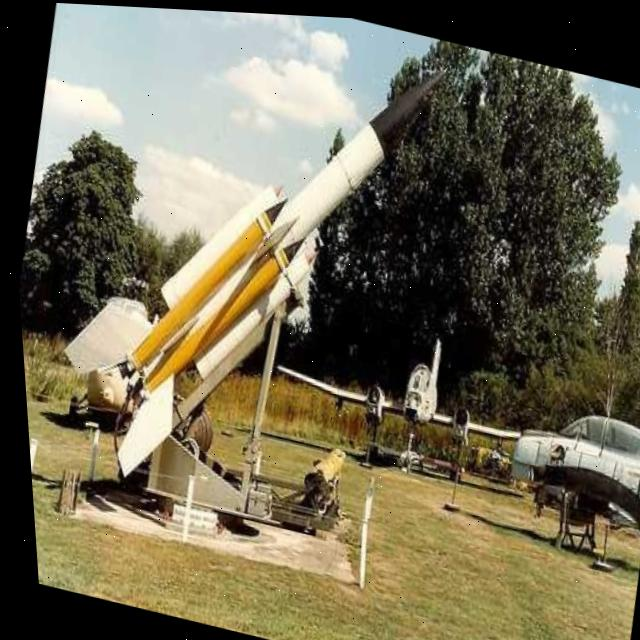missile: (22, 1, 475, 546)
